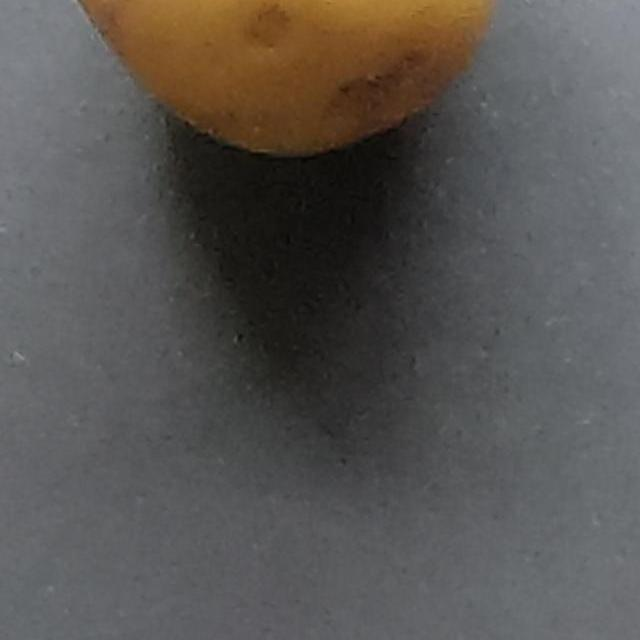potato: (0, 0, 611, 206)
